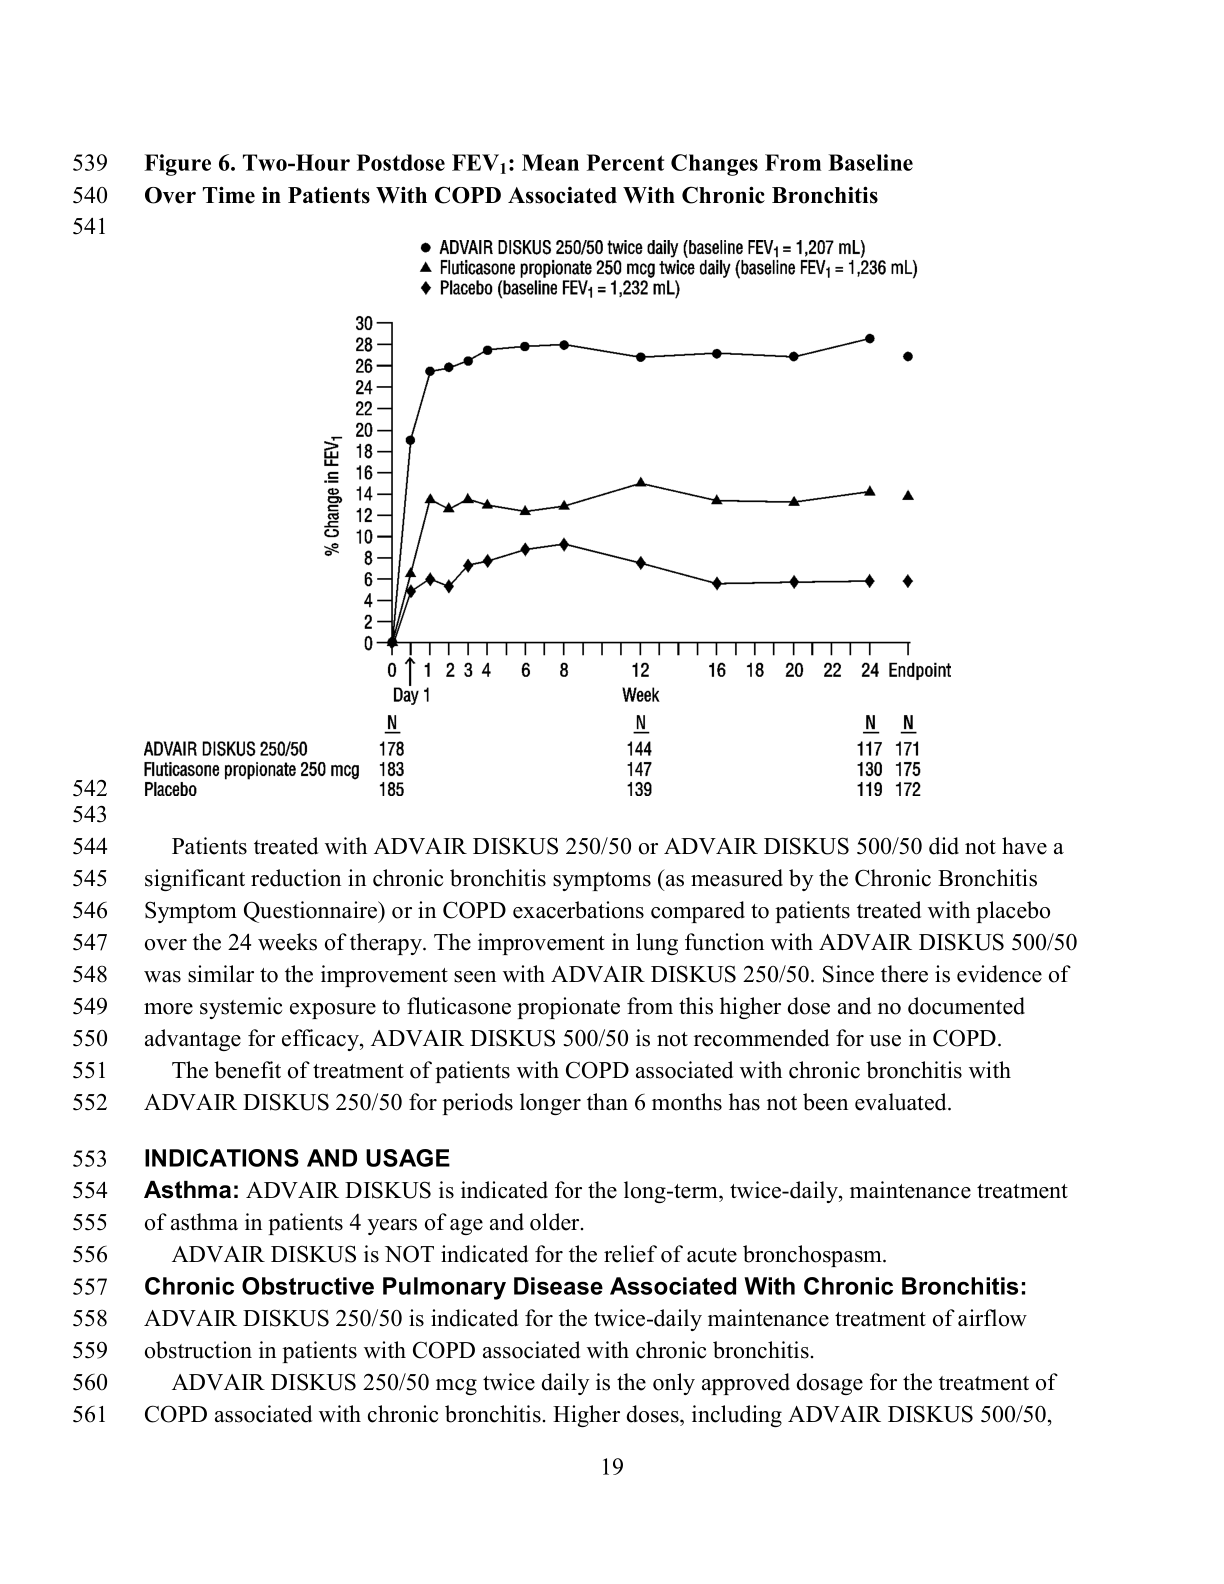nolines: (141, 716, 924, 798)
